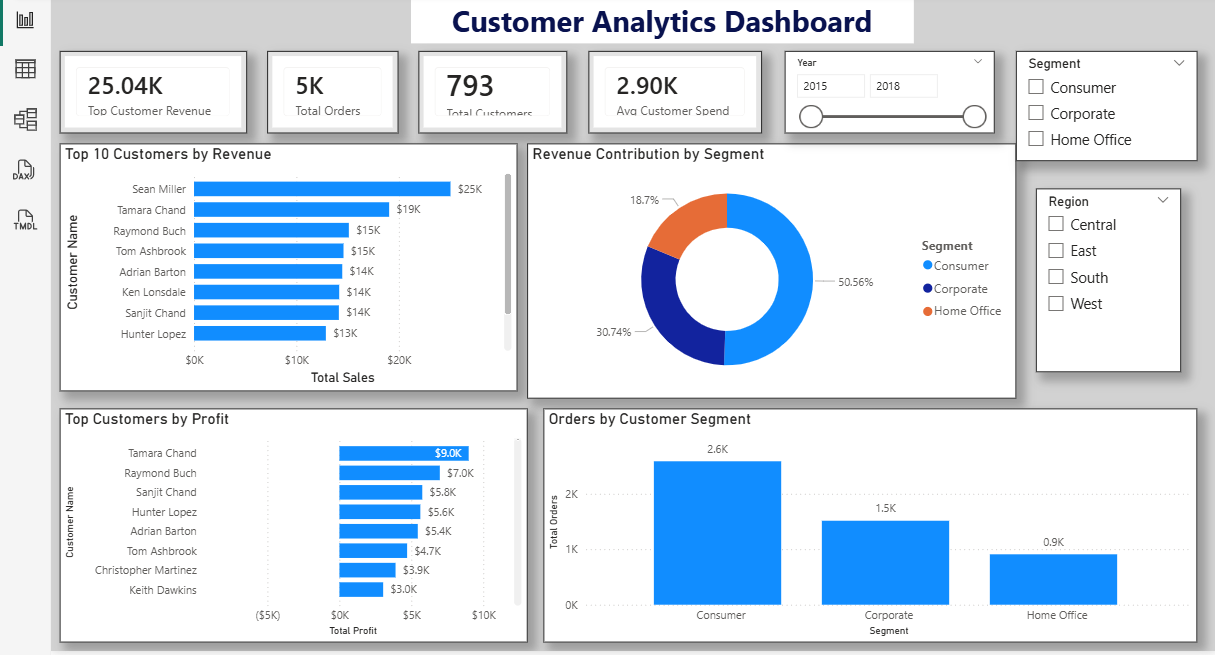

This screenshot's page, from the dashboard's own definition file:
{"tool":"powerbi","page":{"name":"Customer Analytics","canvas":[1280,720],"ordinal":1},"visuals":[{"type":"cardVisual","fields":{"Data":["Orders.Top Customer Revenue"]},"box":[9.6,60.4,205.8,90.6],"z":0},{"type":"cardVisual","fields":{"Data":["Orders.Avg Customer Spend"]},"box":[590.1,60.4,190.7,90.6],"z":1000},{"type":"cardVisual","fields":{"Data":["Orders.Total Orders"]},"box":[237.4,60.4,144.1,90.6],"z":2000},{"type":"textbox","box":[395.2,0,551.6,52.1],"z":3000},{"type":"cardVisual","fields":{"Data":["Orders.Total Customers"]},"box":[403.4,60.4,163.3,90.6],"z":4000},{"type":"barChart","title":"Top 10 Customers by Revenue","fields":{"Category":["Orders.Customer Name"],"Y":["Orders.Total Sales"]},"box":[9.6,161.9,502.2,271.7],"z":5000},{"type":"donutChart","title":"Revenue Contribution by Segment","fields":{"Category":["Orders.Segment"],"Y":["Orders.Total Sales"]},"box":[522.8,161.9,536.5,279.9],"z":6000},{"type":"barChart","title":"Top Customers by Profit","fields":{"Category":["Orders.Customer Name"],"Y":["Orders.Total Profit"]},"box":[9.6,452.8,513.2,256.6],"z":7000},{"type":"columnChart","title":"Orders by Customer Segment","fields":{"Category":["Orders.Segment"],"Y":["Orders.Total Orders"]},"box":[540.7,452.8,717.7,256.6],"z":8000},{"type":"slicer","fields":{"Values":["Orders.Region"]},"box":[1081.3,211.3,159.2,201.7],"z":9000},{"type":"slicer","fields":{"Values":["Orders.Segment"]},"box":[1059.4,60.4,199,120.8],"z":10000},{"type":"slicer","fields":{"Values":["DateTable.Year"]},"box":[805.5,60.4,230.5,90.6],"z":11000}]}

Visuals, with their boxes in screenshot pixels (x1, y1, x2, y2):
cardVisual - Orders.Top Customer Revenue: [left=69, top=54, right=253, bottom=135]
cardVisual - Orders.Avg Customer Spend: [left=589, top=54, right=761, bottom=135]
cardVisual - Orders.Total Orders: [left=273, top=54, right=402, bottom=135]
textbox: [left=415, top=0, right=909, bottom=47]
cardVisual - Orders.Total Customers: [left=422, top=54, right=569, bottom=135]
"Top 10 Customers by Revenue" barChart: [left=69, top=145, right=519, bottom=389]
"Revenue Contribution by Segment" donutChart: [left=529, top=145, right=1010, bottom=396]
"Top Customers by Profit" barChart: [left=69, top=406, right=529, bottom=636]
"Orders by Customer Segment" columnChart: [left=545, top=406, right=1189, bottom=636]
slicer - Orders.Region: [left=1030, top=190, right=1173, bottom=370]
slicer - Orders.Segment: [left=1010, top=54, right=1189, bottom=163]
slicer - DateTable.Year: [left=783, top=54, right=990, bottom=135]
